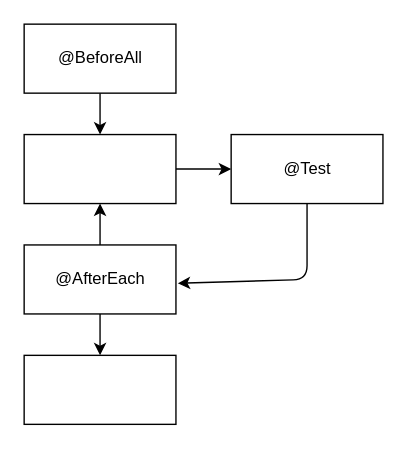
This 407x449 diagram has some shape labels left out. Each missing label, with the box of its shape:
@AfterAll: (23, 354, 176, 424)
@BeforeEach: (23, 133, 176, 204)
